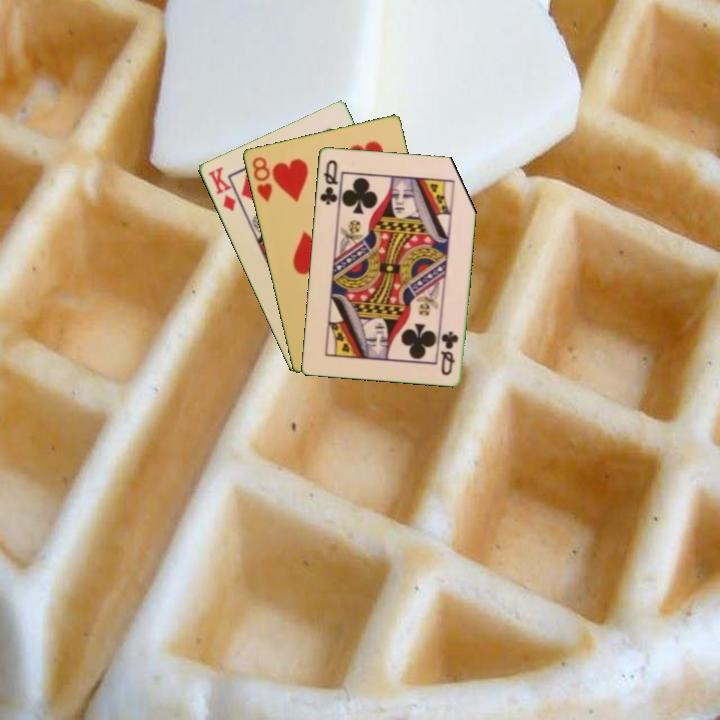8h: (248, 153, 275, 205)
Kd: (204, 163, 238, 214)
Qc: (316, 156, 342, 210), (437, 327, 461, 378)
